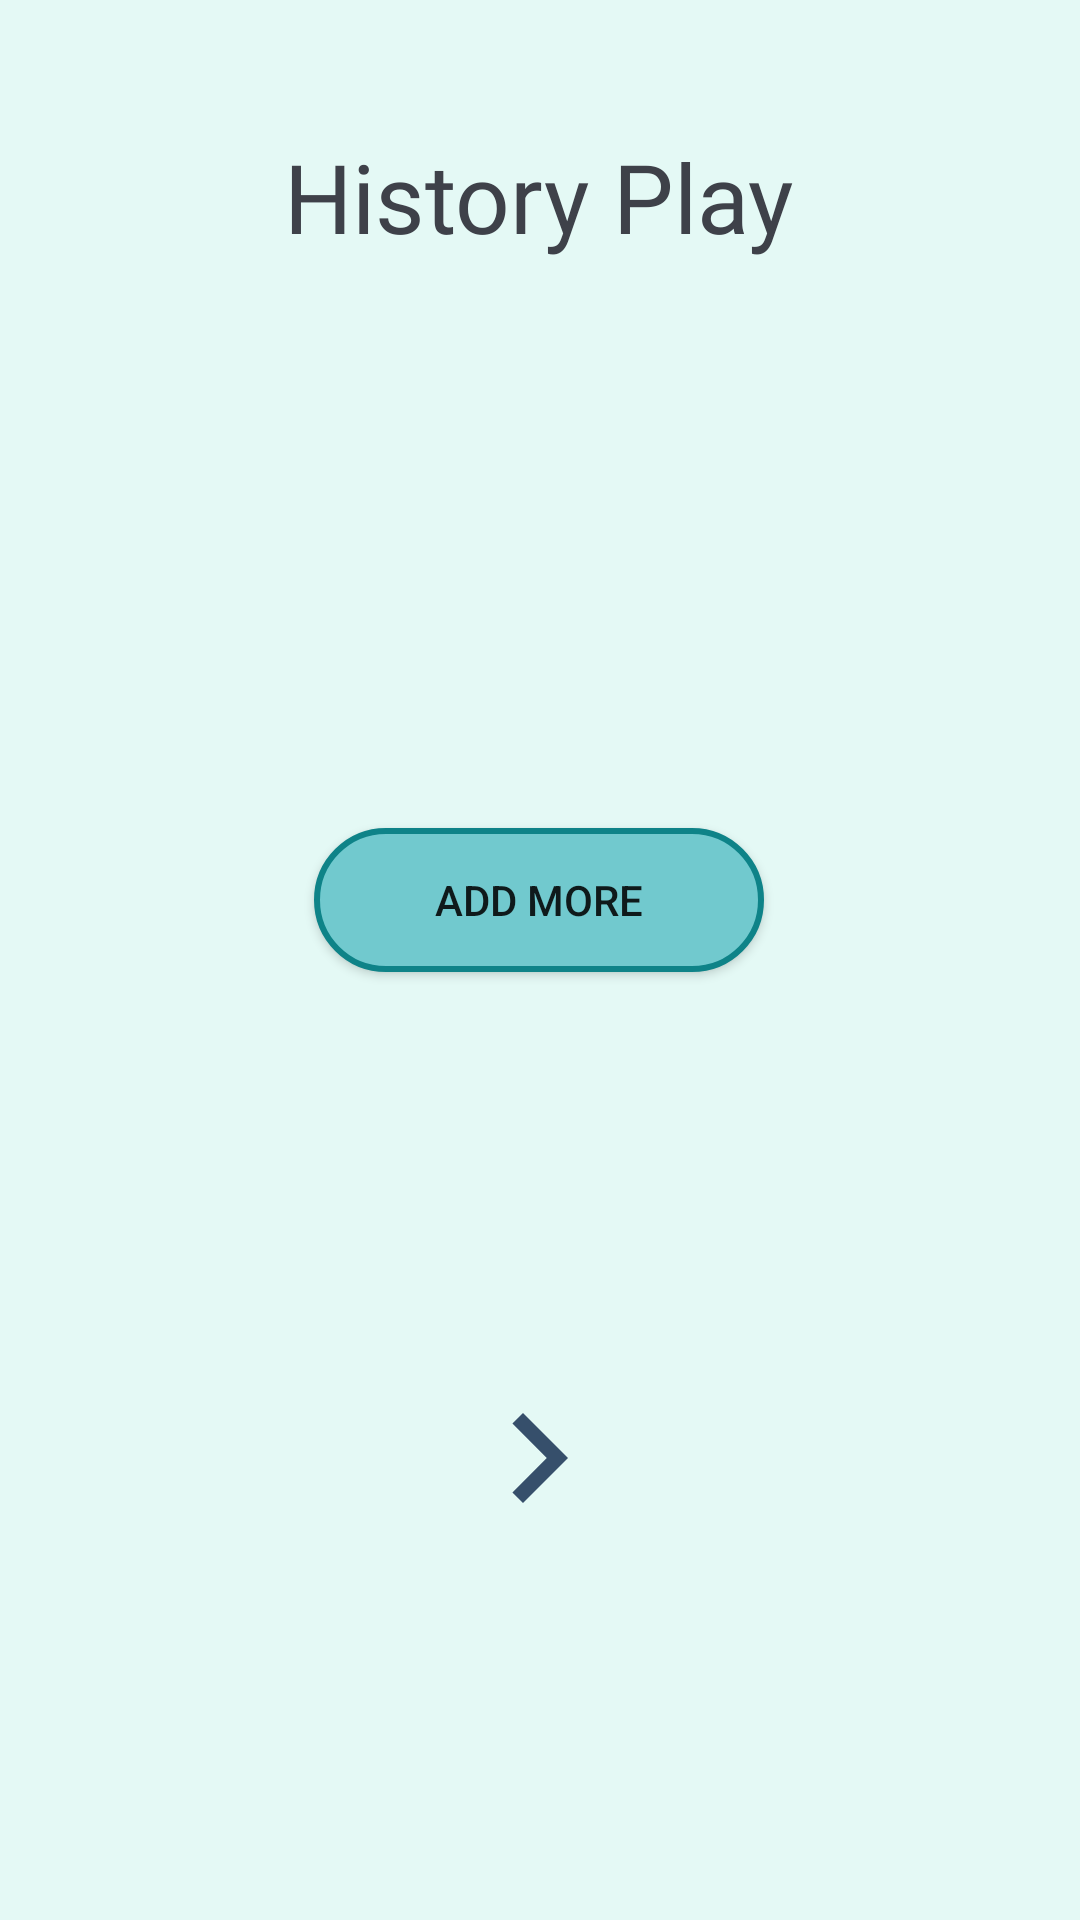

Named icons in this screenshot (1080w x 1920h) and their centers, (x=x, y=y):
navigate next: (x=540, y=1458)
